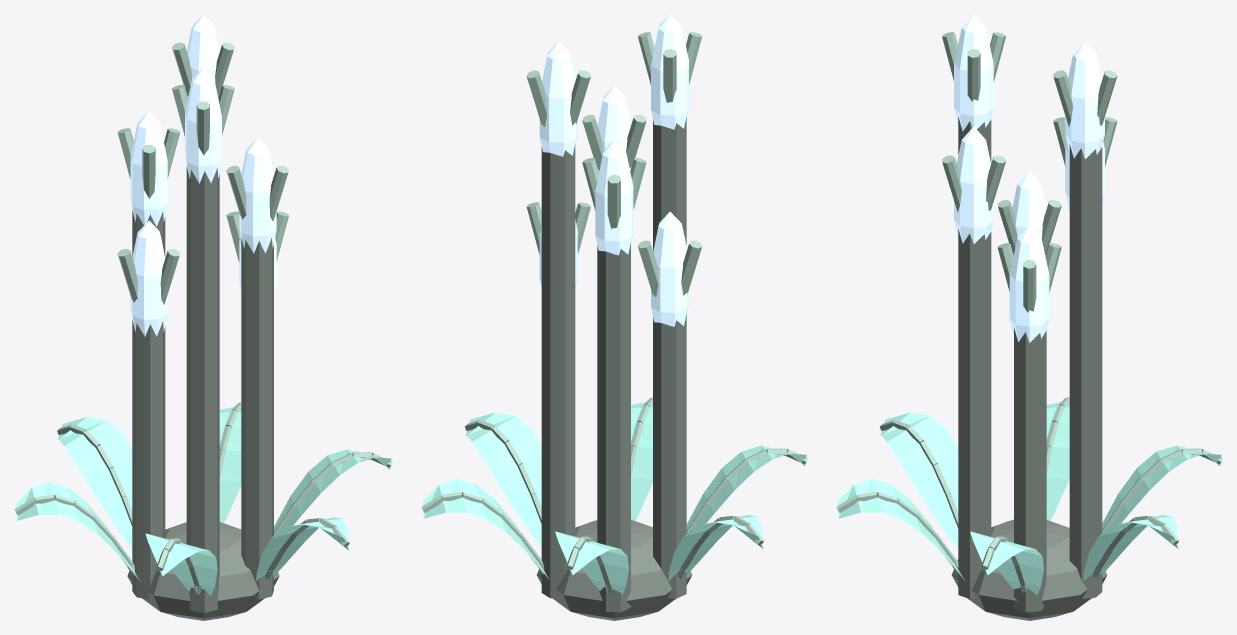
File: mineralreed-growing.glb
The picture shows the model from 3 angles, left to right: view 1: azimuth 30°, elevation 25°; view 2: azimuth 150°, elevation 25°; view 3: azimuth 270°, elevation 25°; orthographic projection. The views are drawn at different scales.
Parts seen in each view (by area): view 1: mineralreed.sway-pivot; view 2: mineralreed.sway-pivot; view 3: mineralreed.sway-pivot.
Boxes of the visible parts, x1,y1,x2,y2 form: mineralreed.sway-pivot: [14, 14, 392, 620]; mineralreed.sway-pivot: [421, 14, 807, 620]; mineralreed.sway-pivot: [836, 14, 1222, 620].
Size of the model in its own units: 0.5988 by 0.975 by 0.5873.
